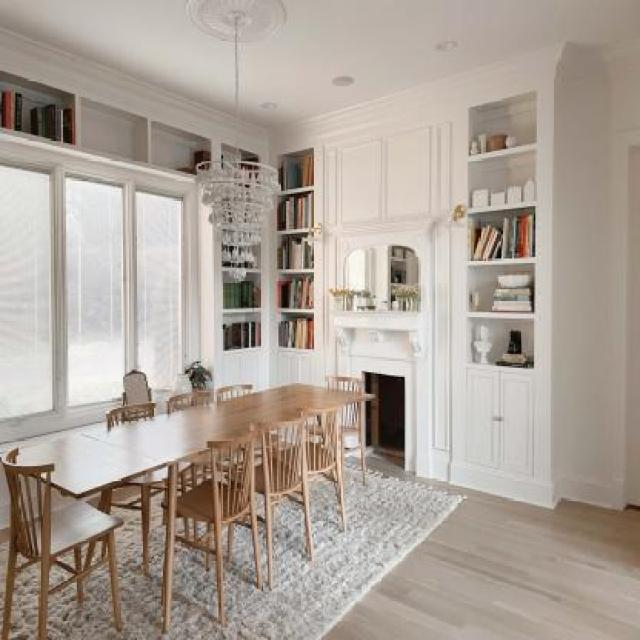floor: (161, 448, 640, 640), (172, 540, 217, 628), (274, 491, 310, 582), (238, 524, 273, 609), (223, 525, 256, 611), (309, 475, 340, 549), (343, 456, 367, 512), (349, 498, 376, 529)
